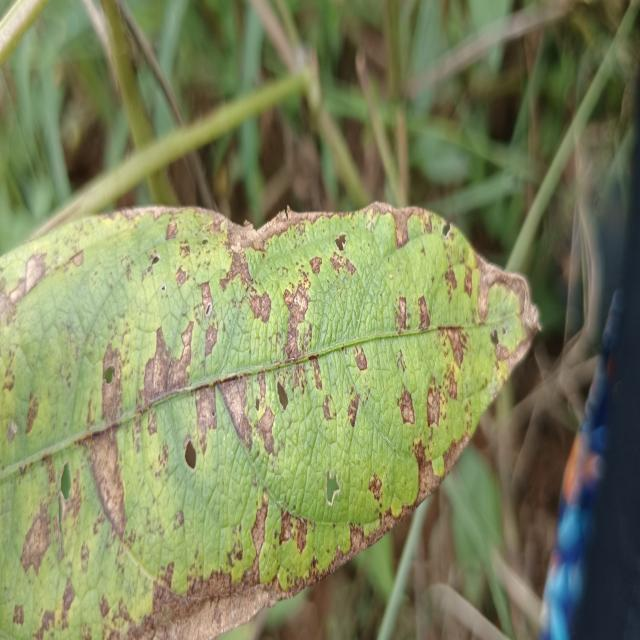Black gram_leaf spot: (0, 196, 546, 640)
